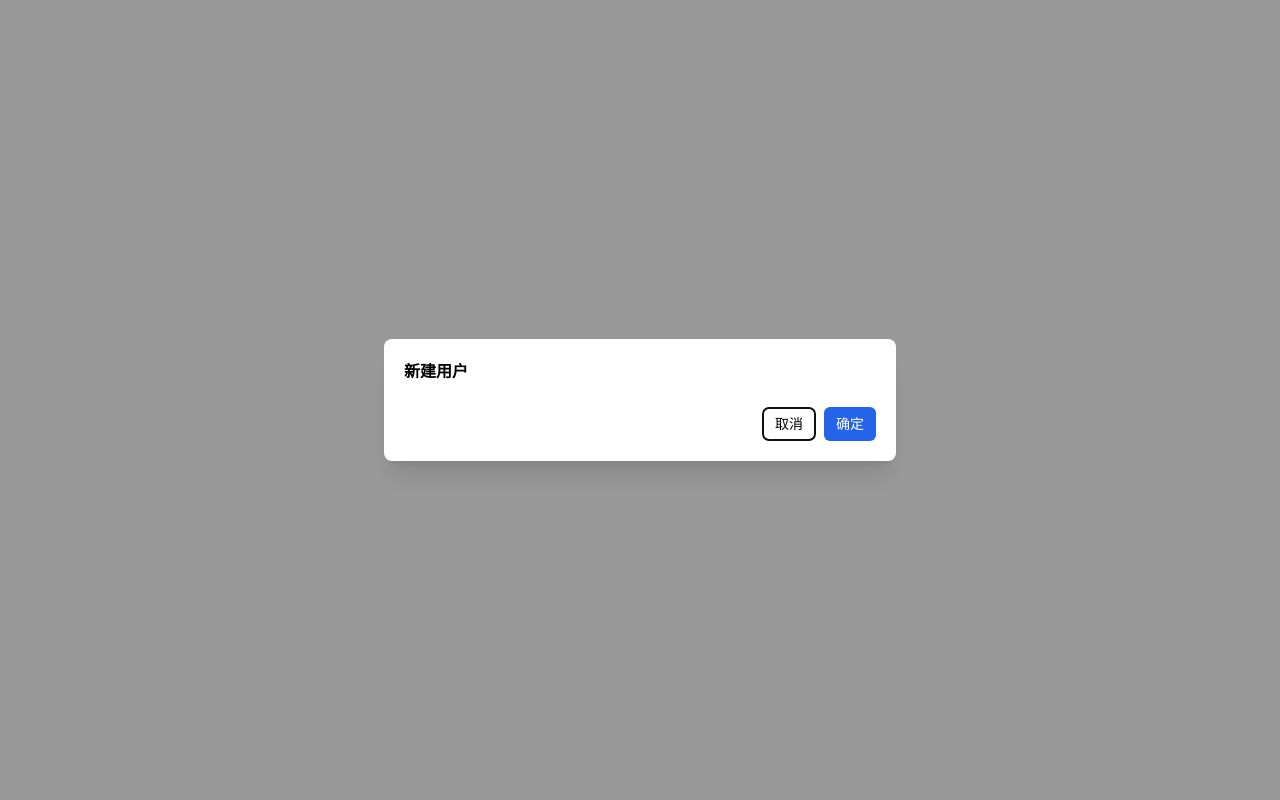
Test: 对话框 › 提交失败的错误出现在 alert 区域里，弹窗不关闭
The width and height of the screenshot is (1280, 800).
Step 1. Click the button "确定" → (850, 424), box [824,407,876,441]
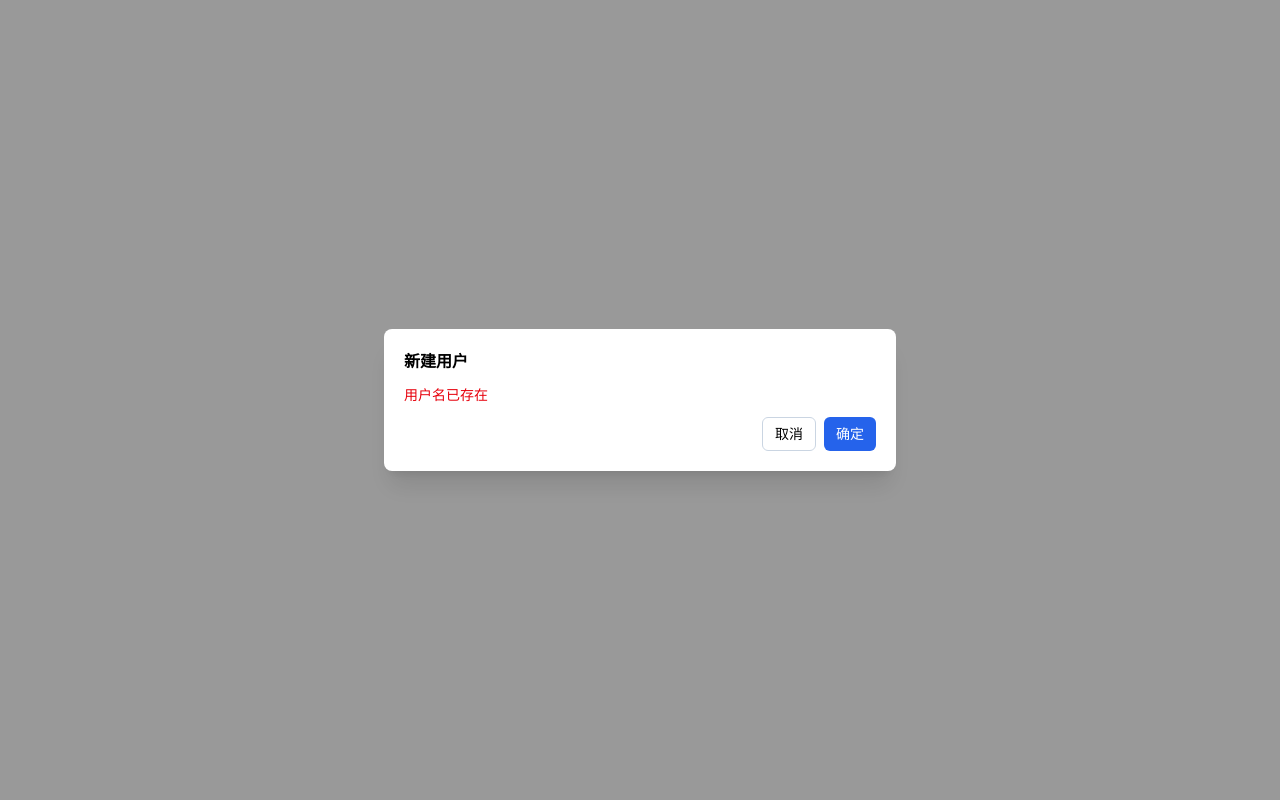
Result: the message reads "用户名已存在" at [404,386,488,403]
